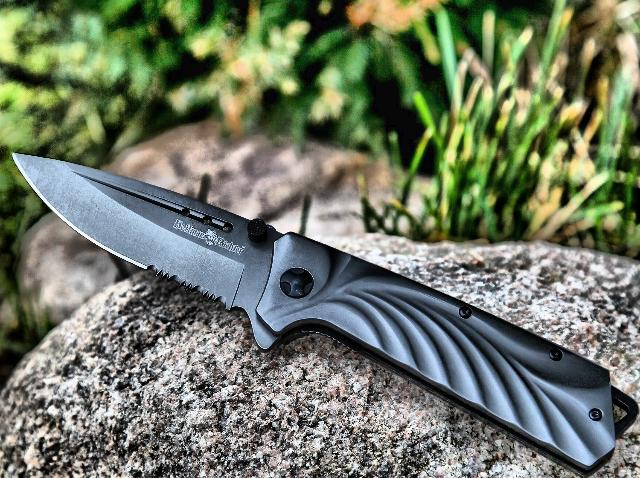knife: (8, 144, 290, 324)
